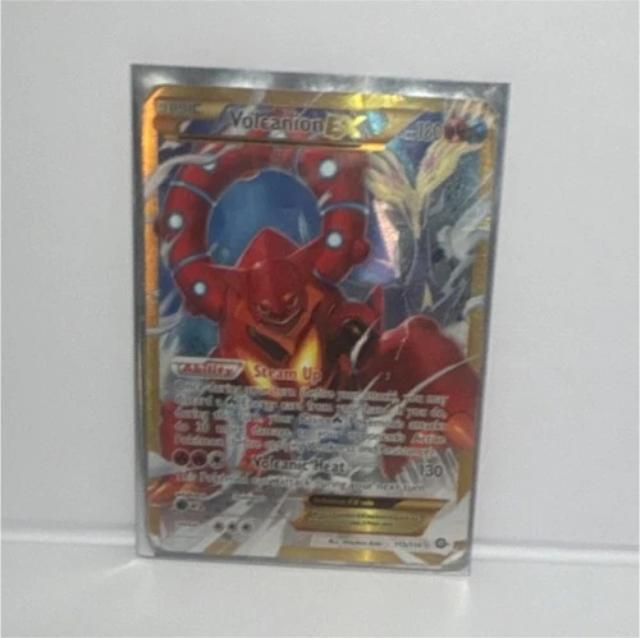Card: (135, 78, 503, 577)
Name: (217, 100, 377, 145)
